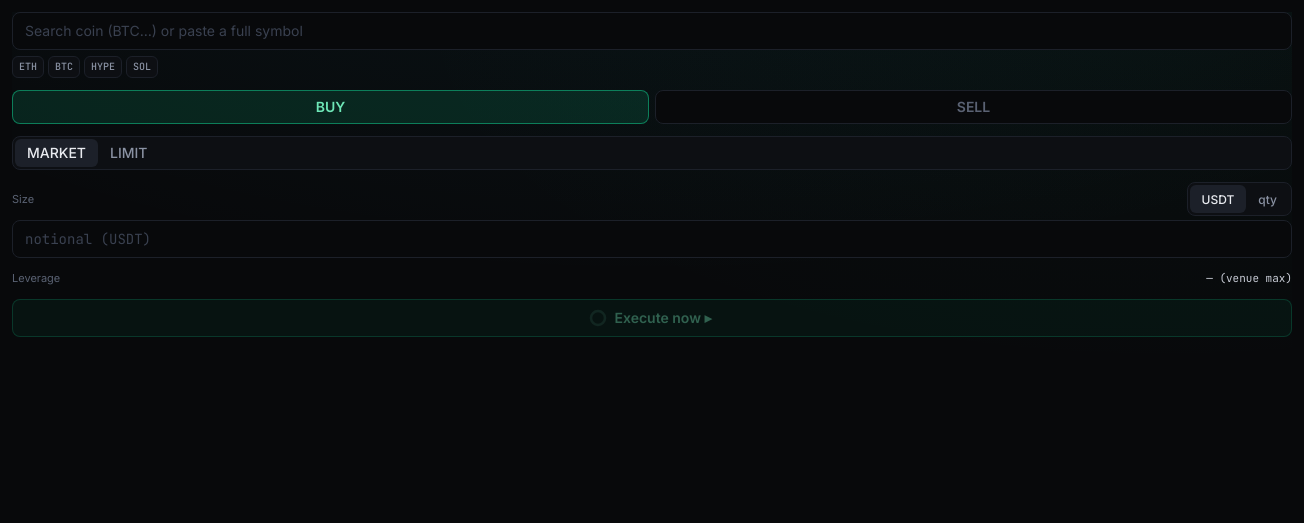
Scenario: SingleTicket › blur-snaps a resting BUY price DOWN, never up onto the ask (Hyperliquid)
Type "BTC" into the field labelled "Symbol search". click: (652, 31)
box: [12,12,1292,50]
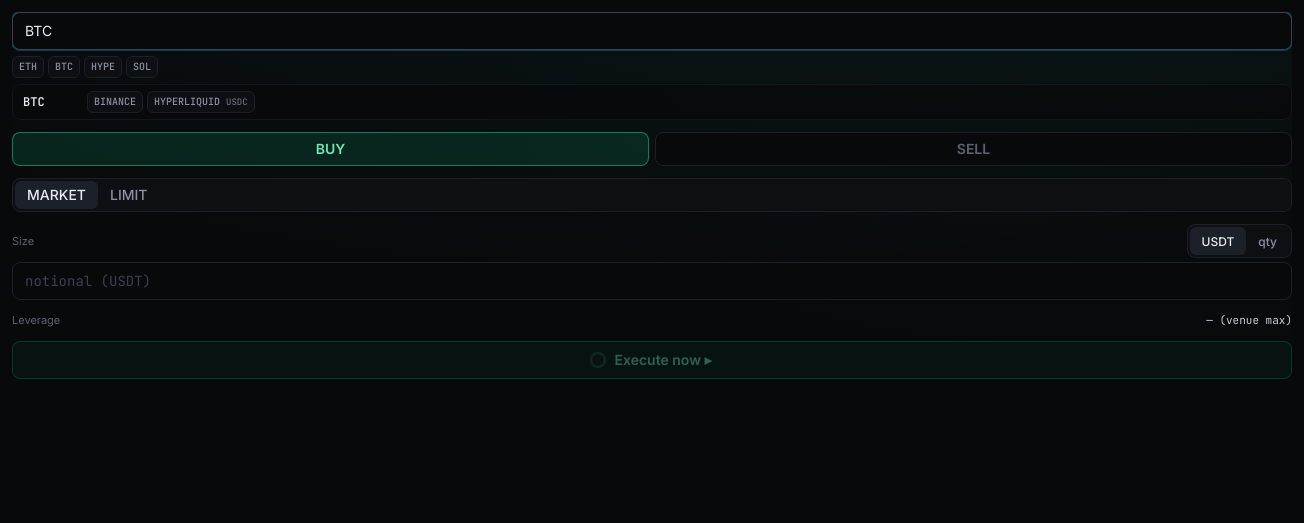
Click the button "HYPERLIQUID USDC". click: (201, 102)
box: [147,91,255,113]
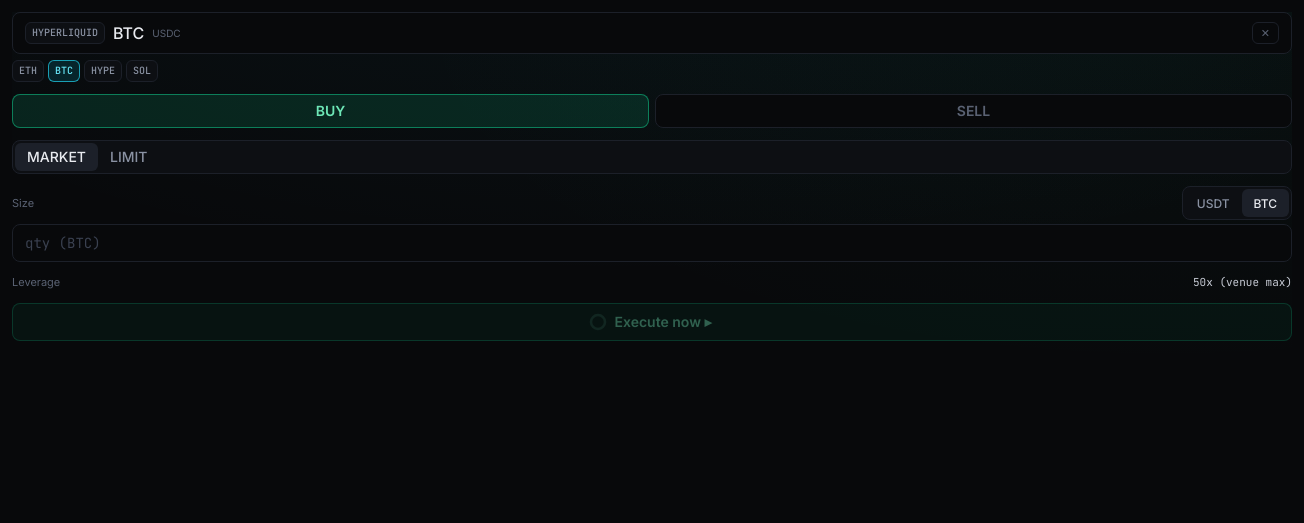
Check: the text "50x (venue max)" is shown, box [1193,274,1292,290]
Click the radio button labelled "LIMIT". click: (129, 157)
box: [98,143,160,171]
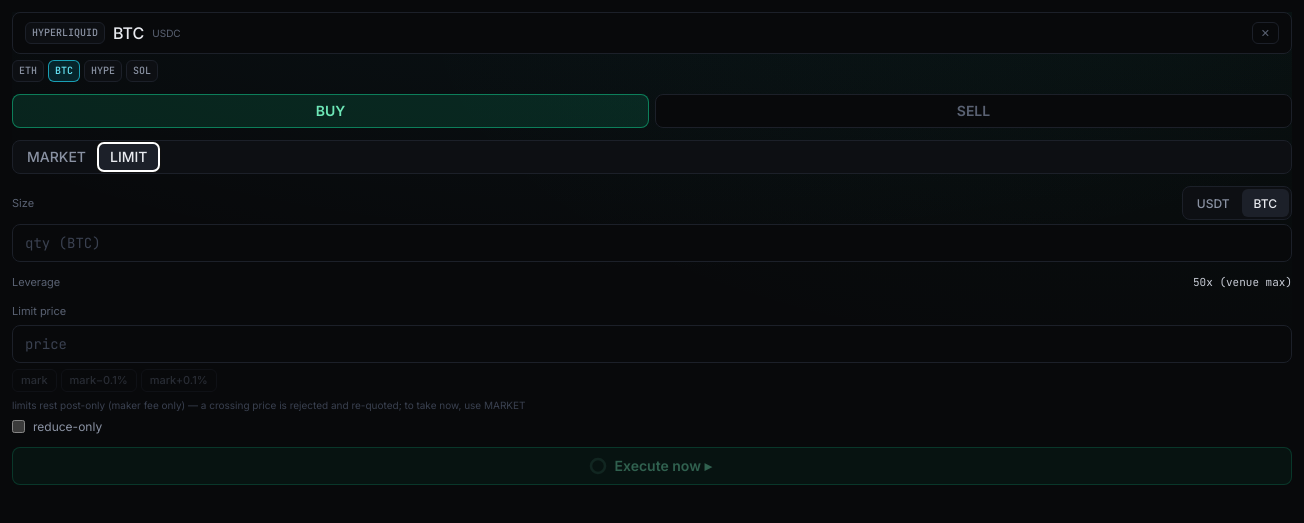
Type "61717.6" into the field labelled "Limit price". click: (652, 344)
box: [12,325,1292,363]
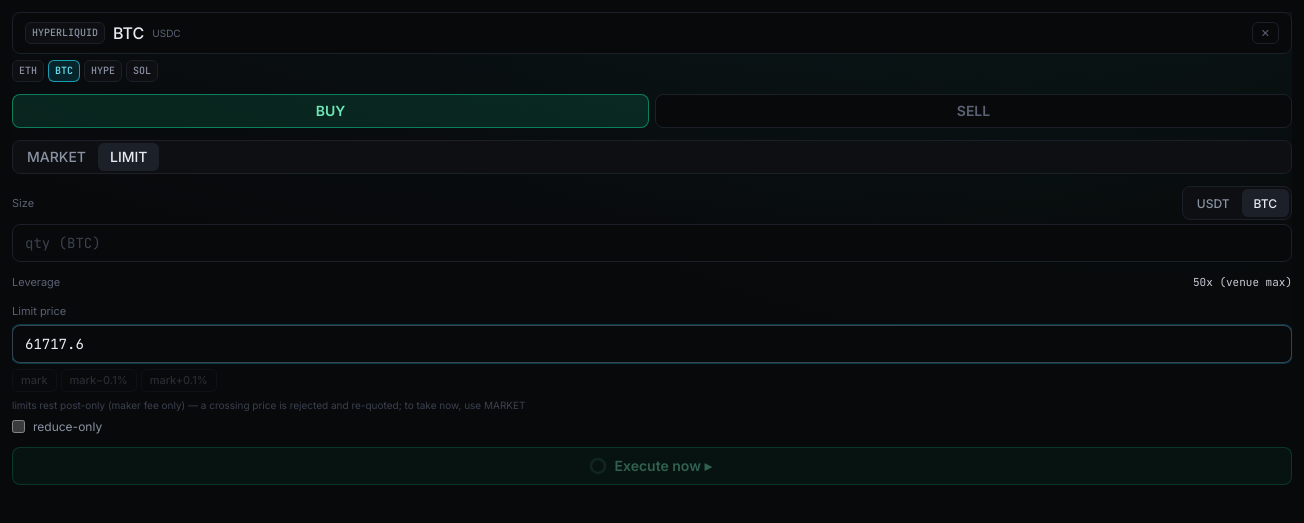
Press Tab
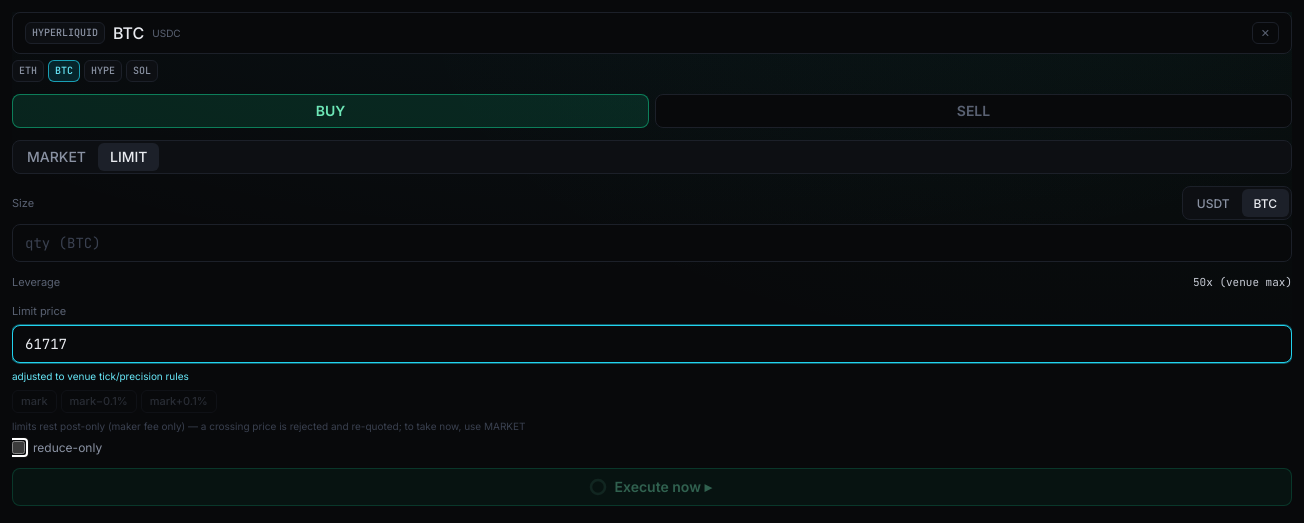
Check: the field labelled "Limit price" holds "61717", box [12,325,1292,363]
Check: the text "adjusted to venue tick/precision rules" is shown, box [12,370,189,382]
